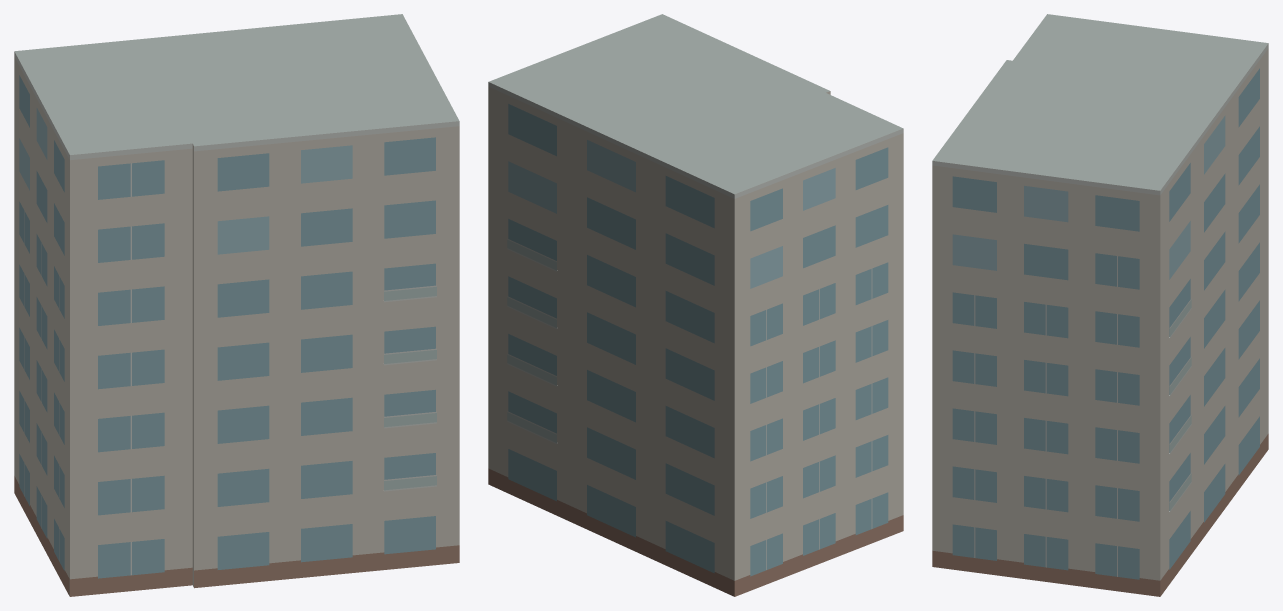
File: survey-upis-33037273.glb
3 views of the same model, side by side, from view 1: azimuth 30°, elevation 25°; view 2: azimuth 150°, elevation 25°; view 3: azimuth 270°, elevation 25° (orthographic). The views are drawn at different scales.
Parts seen in each view (by area): view 1: survey-upis-33037273.tmp; view 2: survey-upis-33037273.tmp; view 3: survey-upis-33037273.tmp.
Part boxes in pixels (<box>): survey-upis-33037273.tmp: <box>14,14,459,596</box>; survey-upis-33037273.tmp: <box>488,14,903,596</box>; survey-upis-33037273.tmp: <box>932,14,1268,596</box>.
Size of the model in its own units: 19.95 by 21.35 by 16.04.
